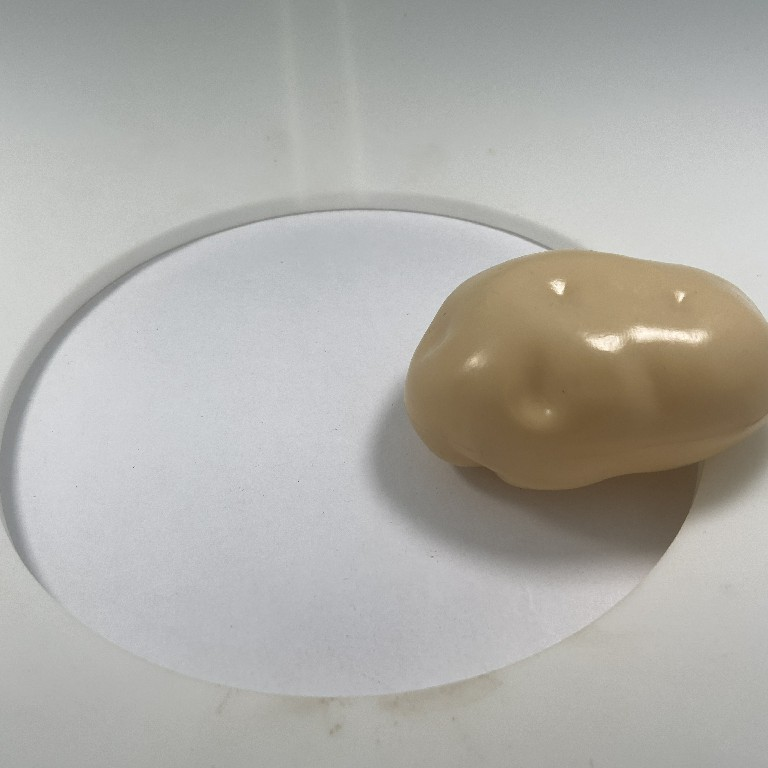fruit_potato: (396, 246, 768, 499)
